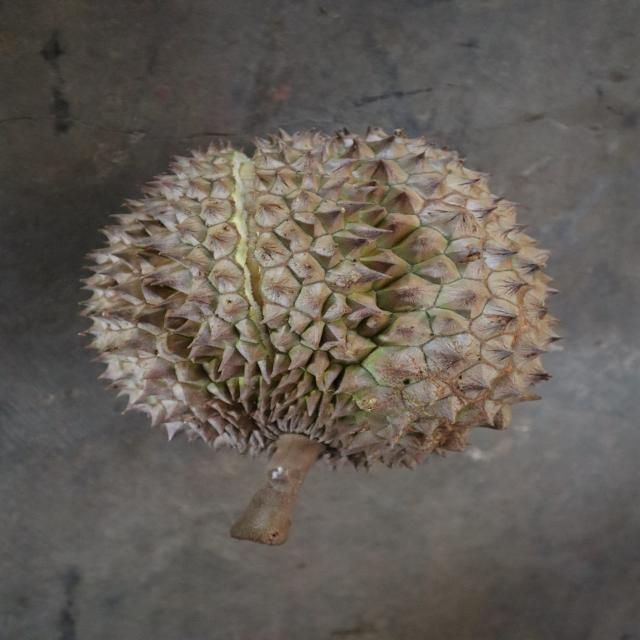mature: (78, 123, 564, 467)
